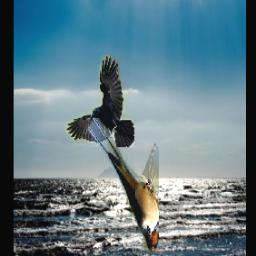Crow: (65, 55, 134, 147)
Swallow: (88, 119, 159, 253)
